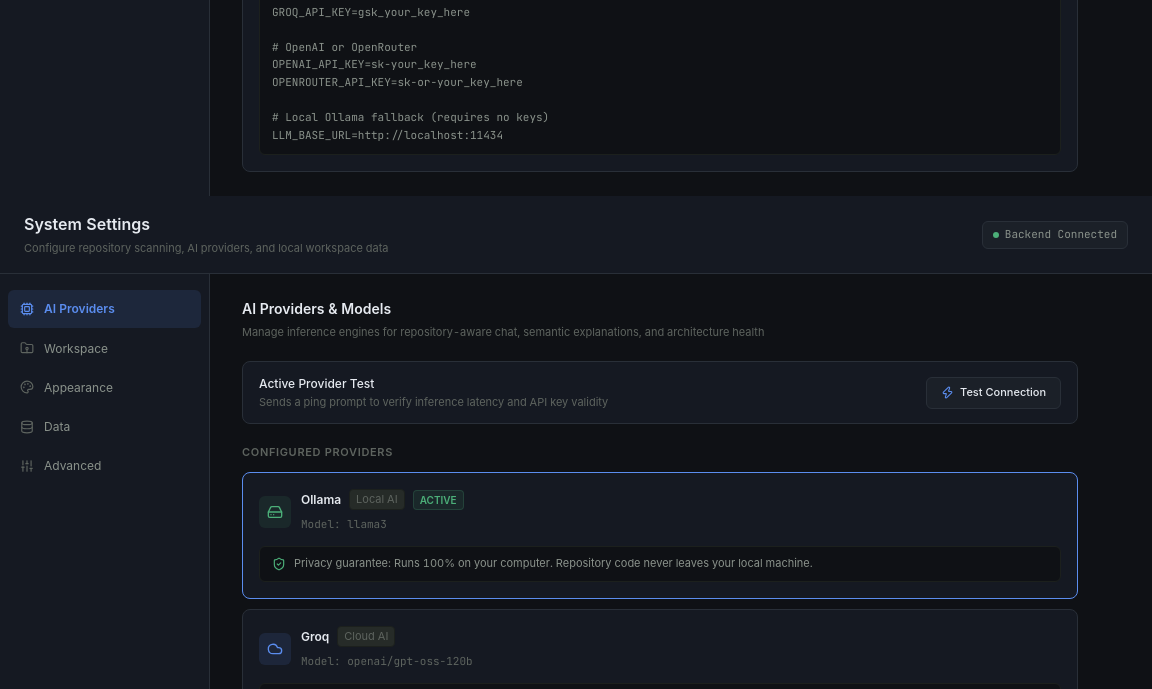
Phase 11: Settings, Providers & Error UX › switches to Workspace and Data tabs displaying storage locations
(page scrolled)
Step 1. Click the button "Workspace" → coordinates (104, 348), box [8,330,201,367]
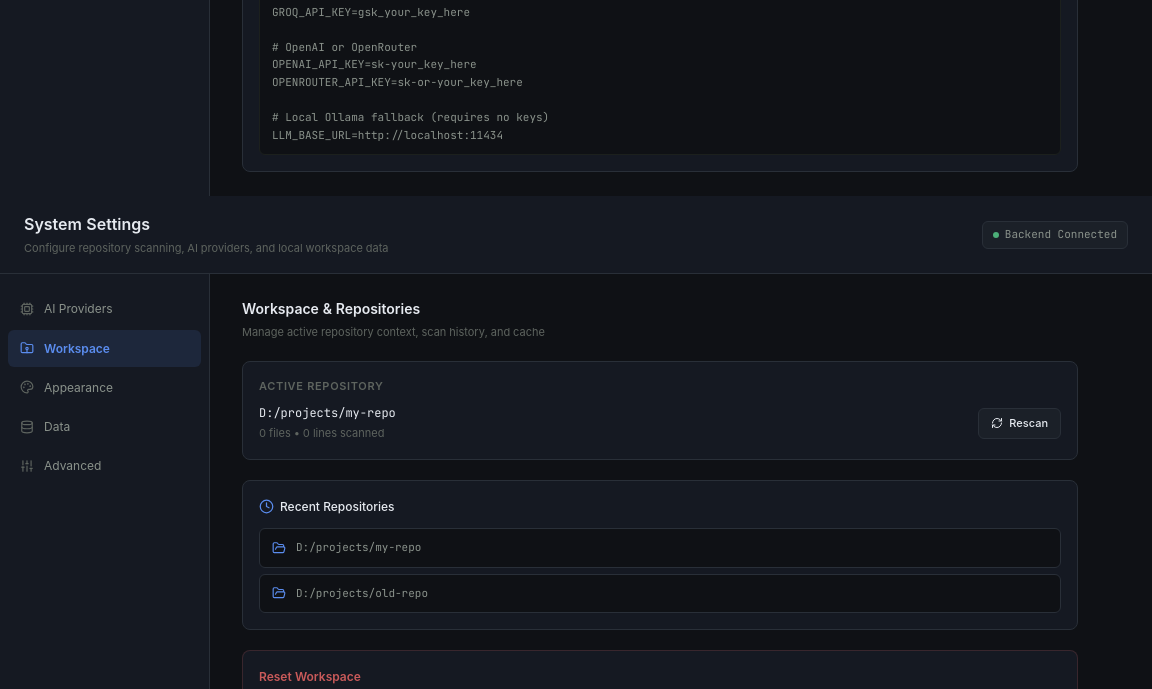
Expected: the text "Workspace & Repositories" is shown, [242,300,420,318]
Expected: the text "D:/projects/my-repo" is shown, [259,404,396,423]
Expected: the text "D:/projects/old-repo" is shown, [296,585,428,602]
Step 2. Click the button "Data" → coordinates (104, 427), box [8,408,201,445]
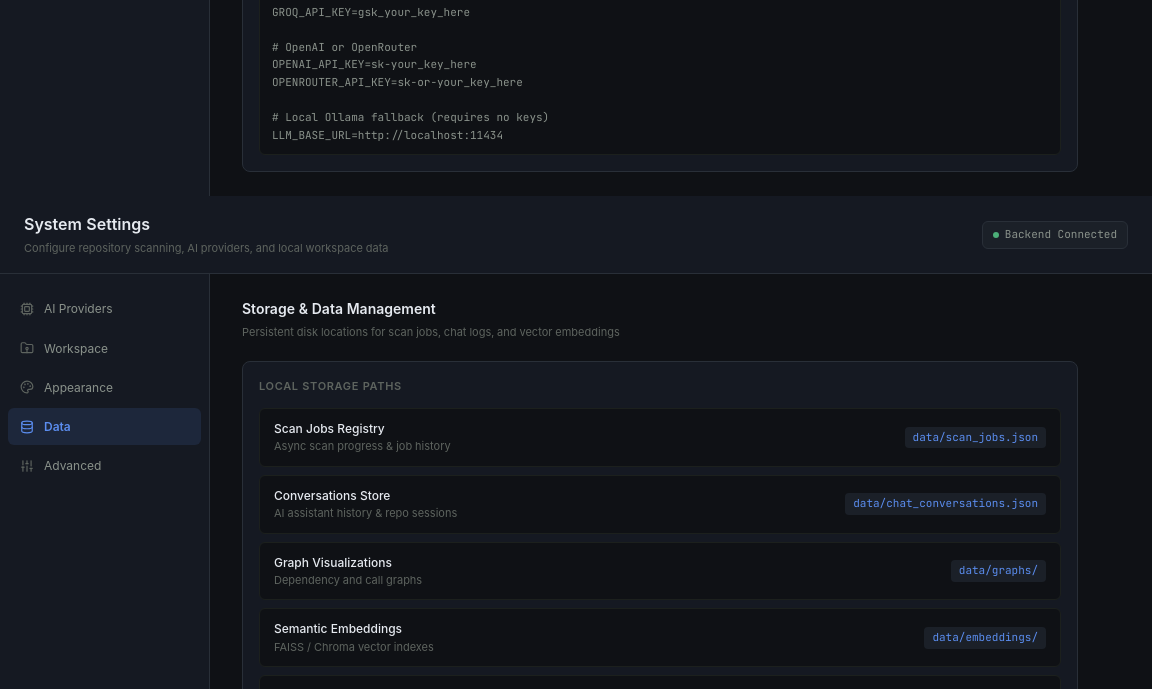
Expected: the text "Storage & Data Management" is shown, [242,300,436,318]
Expected: the text "data/scan_jobs.json" is shown, [905,427,1046,448]
Expected: the text "data/chat_conversations.json" is shown, [845,493,1046,515]
